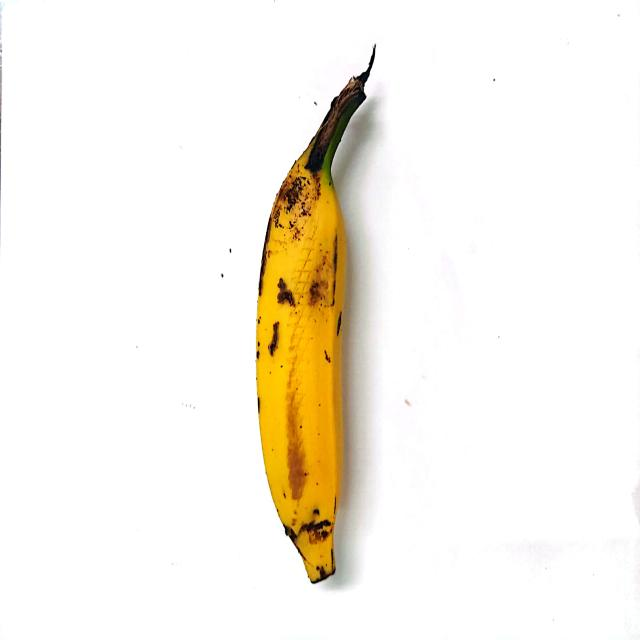fresh_banana: (255, 78, 361, 582)
